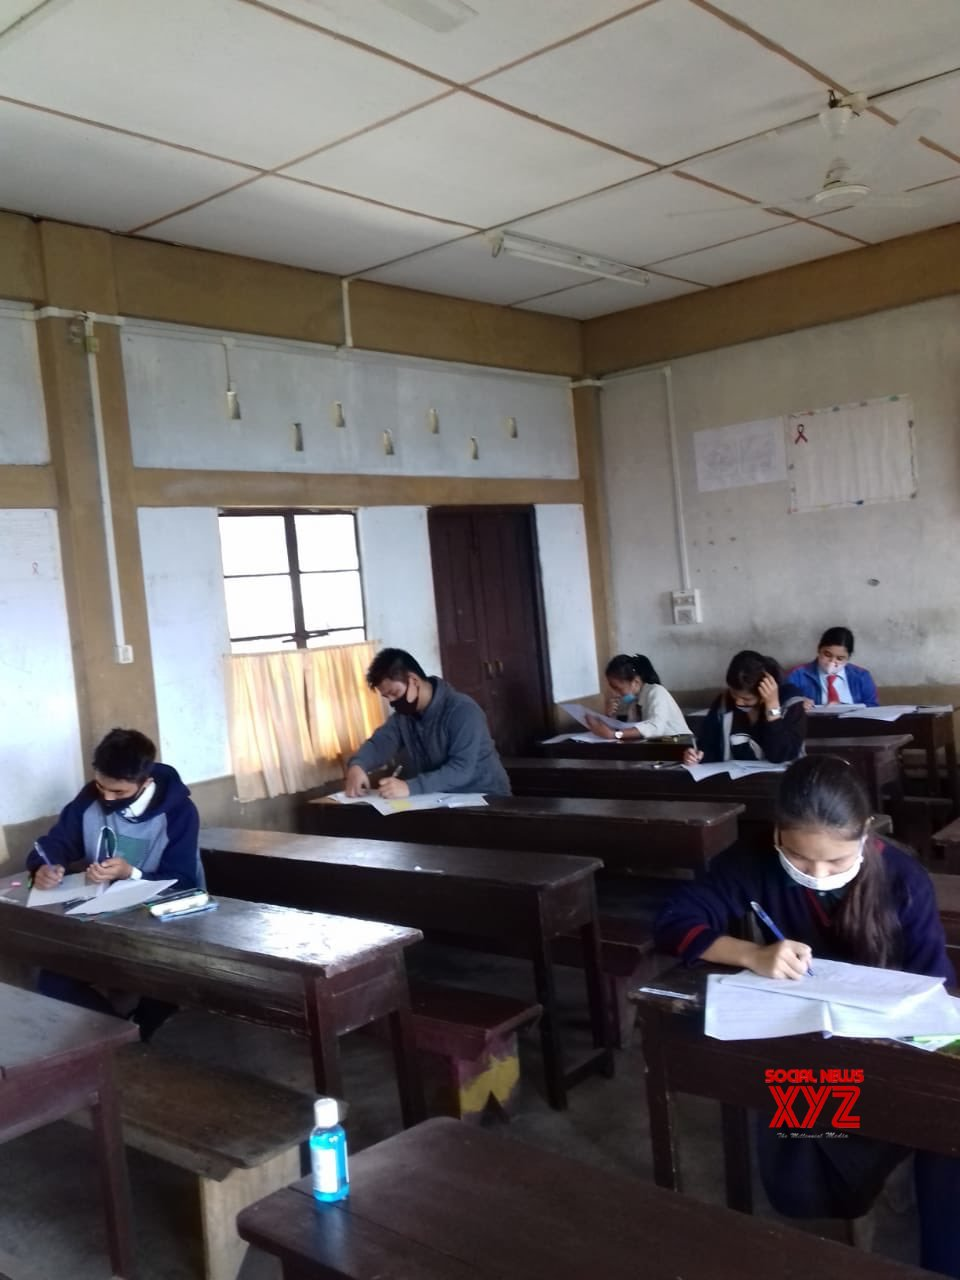student: (681, 754, 933, 1123), (303, 631, 526, 811), (58, 714, 223, 940), (699, 631, 810, 791), (568, 652, 695, 777), (781, 606, 897, 717)
